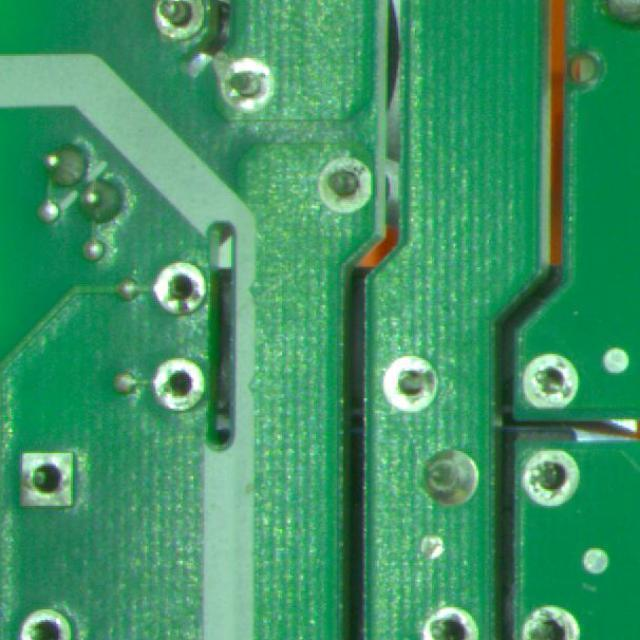Insufficient solder: (14, 437, 82, 519), (313, 147, 377, 221), (514, 348, 583, 416), (520, 444, 586, 514), (218, 52, 280, 120), (152, 251, 208, 320), (150, 350, 210, 410), (382, 356, 442, 414), (419, 600, 484, 640), (518, 603, 584, 640), (153, 0, 207, 44), (15, 604, 78, 640)
